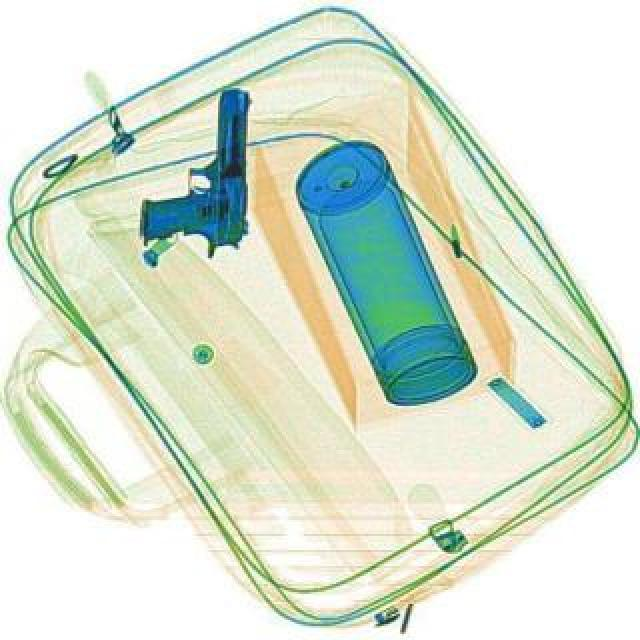gun: (142, 84, 256, 260)
